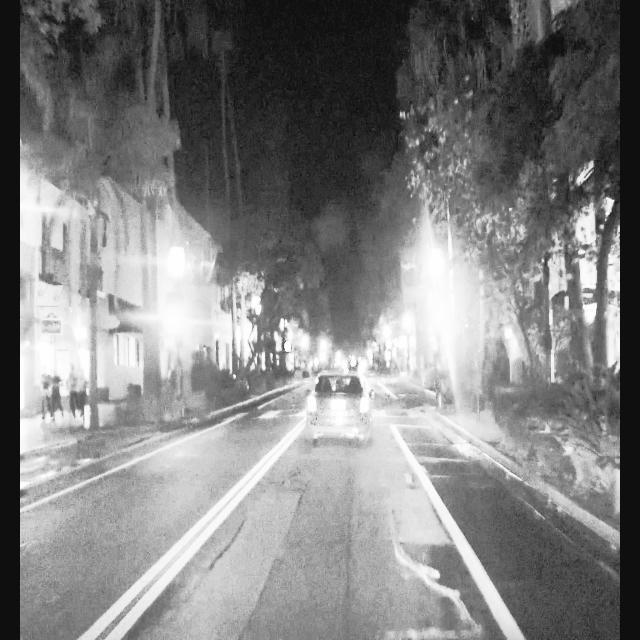Tree: (563, 5, 620, 491), (498, 23, 557, 473)
